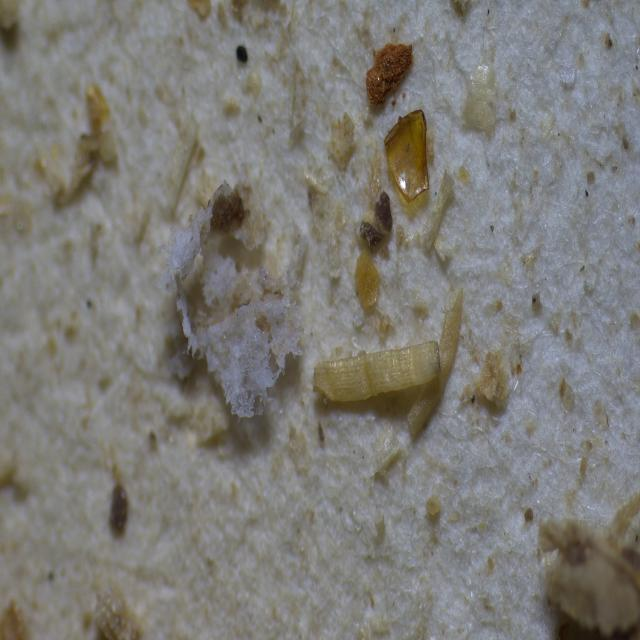microplastic: (133, 164, 355, 429)
